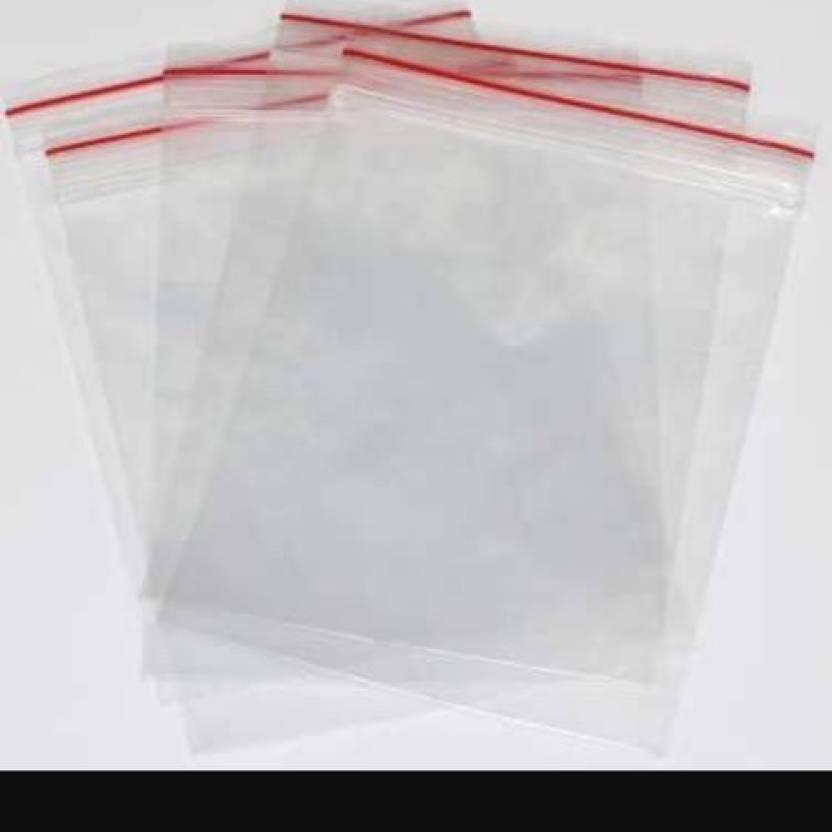LDPE: (0, 0, 832, 769)
